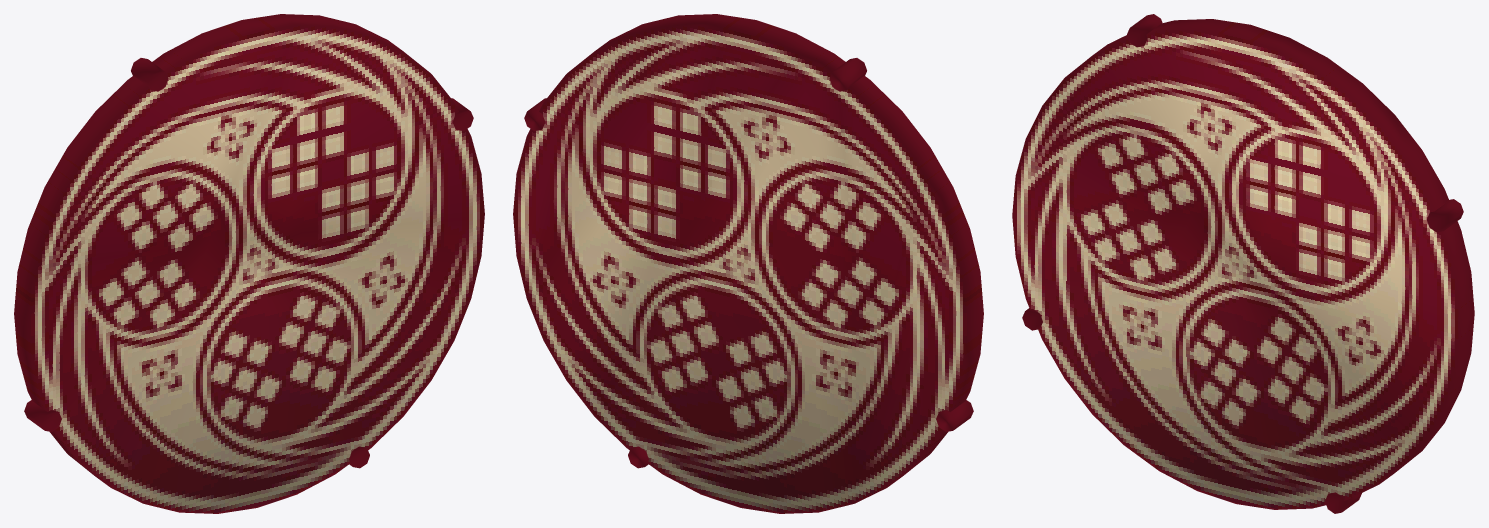
The model's file is ps2_save-icons_youkihimeden.glb.
3 views of the same model, side by side, from view 1: azimuth 30°, elevation 25°; view 2: azimuth 150°, elevation 25°; view 3: azimuth 330°, elevation 25° (orthographic).
Parts seen in each view (by area): view 1: SAVE.ICO; view 2: SAVE.ICO; view 3: SAVE.ICO.
Boxes of the visible parts, bbox=[...] form: SAVE.ICO: bbox=[14, 14, 484, 513]; SAVE.ICO: bbox=[513, 14, 983, 513]; SAVE.ICO: bbox=[1012, 14, 1474, 513].
Size of the model in its own units: 3.9 by 3.9 by 0.2603.
Materials: 1 (1 with a texture image).
